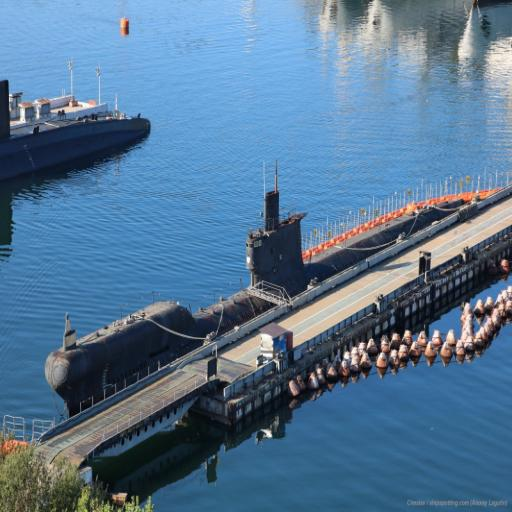submarine: (40, 193, 469, 422)
